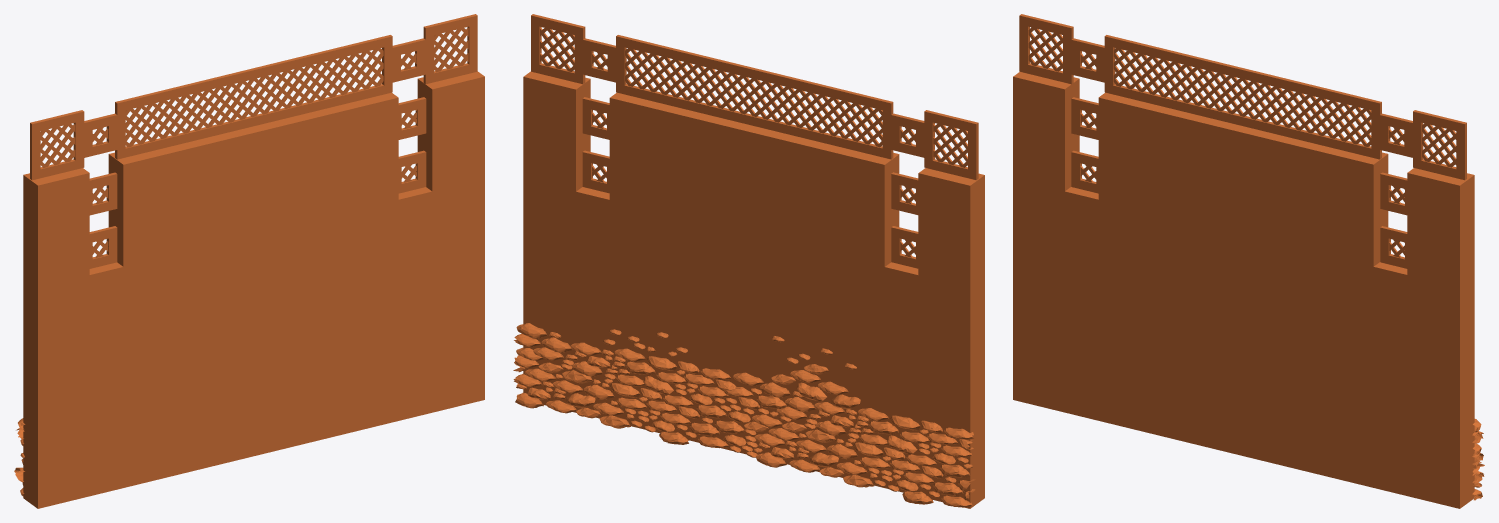
The model's file is WallModel.fbx.
The picture shows the model from 3 angles, left to right: view 1: azimuth 30°, elevation 25°; view 2: azimuth 150°, elevation 25°; view 3: azimuth 330°, elevation 25°; orthographic projection.
Parts seen in each view (by area): view 1: Box101; view 2: Box101; view 3: Box101.
Boxes of the visible parts, x1,y1,x2,y2 form: Box101: [14, 14, 484, 508]; Box101: [513, 14, 984, 508]; Box101: [1013, 14, 1484, 508].
Size of the model in its own units: 965 by 777 by 74.82.
